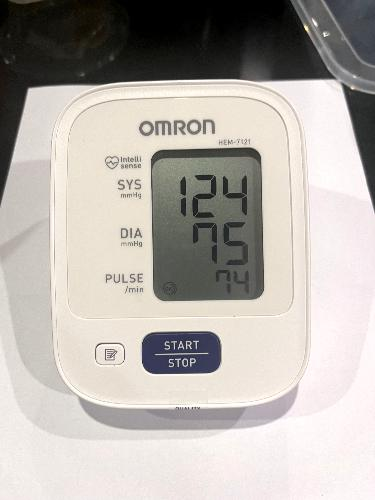bpm: (149, 143, 265, 303)
